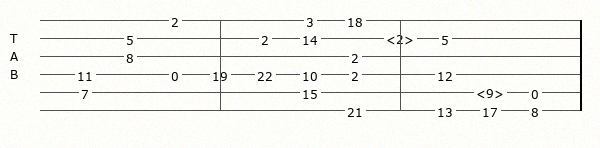0: (171, 68, 183, 81), (531, 86, 543, 99)
10: (302, 68, 322, 81)
11: (77, 68, 97, 81)
12: (437, 68, 457, 81)
13: (437, 104, 457, 117)
14: (302, 32, 322, 45)
15: (302, 86, 322, 99)
17: (482, 104, 502, 117)
18: (347, 14, 367, 27)
19: (212, 68, 232, 81)
2: (171, 14, 183, 27), (261, 32, 273, 45), (351, 68, 363, 81), (351, 50, 363, 63)
21: (347, 104, 367, 117)
22: (257, 68, 277, 81)
3: (306, 14, 318, 27)
5: (126, 32, 138, 45), (441, 32, 453, 45)
7: (81, 86, 93, 99)
8: (126, 50, 138, 63), (531, 104, 543, 117)
harmonic: (386, 31, 418, 45), (476, 85, 508, 99)
